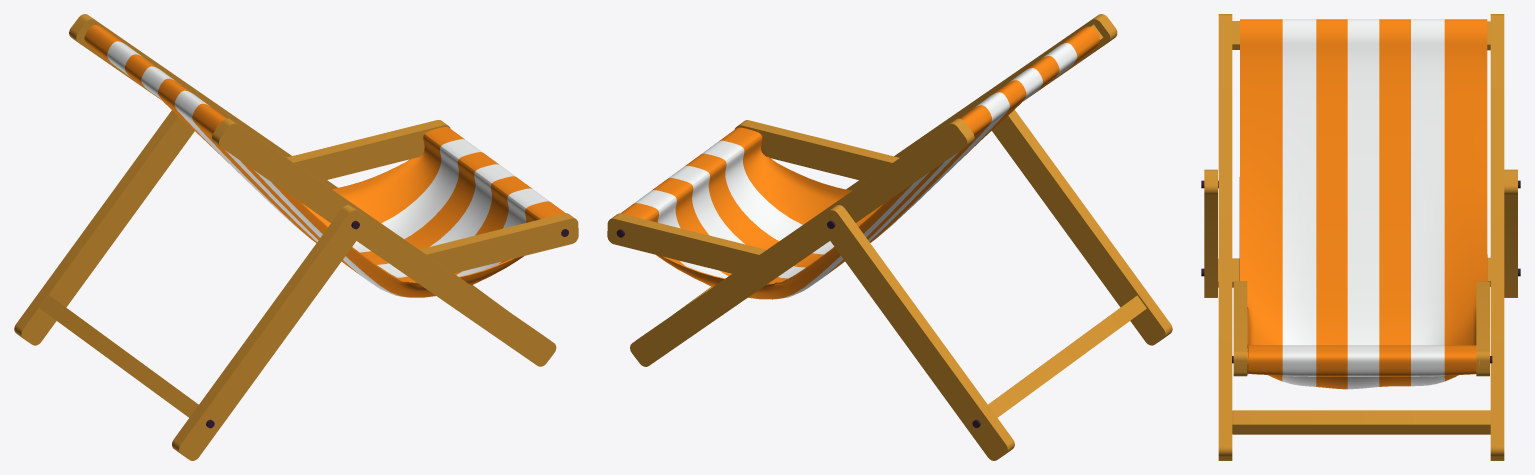
The model's file is chair.glb.
3 views of the same model, side by side, from view 1: azimuth 30°, elevation 25°; view 2: azimuth 150°, elevation 25°; view 3: azimuth 270°, elevation 25° (orthographic). The views are drawn at different scales.
Visible parts, largest first — view 1: Plane, Cube, Cube.001, Cube.005, Cube.006, Cube.007, Cube.002, Cube.004; view 2: Plane, Cube.004, Cube.005, Cube.001, Cube.007, Cube.006, Cube.002, Cube; view 3: Plane, Cube, Cube.004, Cube.003, Cube.001, Cube.005, Cube.006, Cube.007, Cube.009, Cube.002.
Boxes of the visible parts, left/top/right/bottom form: Plane: left=84, top=25, right=565, bottom=297; Cube: left=212, top=118, right=556, bottom=366; Cube.001: left=172, top=205, right=368, bottom=460; Cube.005: left=14, top=110, right=194, bottom=345; Cube.006: left=419, top=213, right=578, bottom=273; Cube.007: left=286, top=120, right=450, bottom=181; Cube.002: left=39, top=295, right=198, bottom=417; Cube.004: left=69, top=14, right=337, bottom=188; Plane: left=620, top=26, right=1099, bottom=299; Cube.004: left=630, top=118, right=974, bottom=366; Cube.005: left=818, top=205, right=1014, bottom=460; Cube.001: left=992, top=109, right=1172, bottom=345; Cube.007: left=607, top=213, right=766, bottom=273; Cube.006: left=737, top=120, right=899, bottom=181; Cube.002: left=988, top=295, right=1146, bottom=417; Cube: left=846, top=14, right=1117, bottom=190; Plane: left=1239, top=19, right=1487, bottom=389; Cube: left=1218, top=14, right=1232, bottom=460; Cube.004: left=1490, top=14, right=1504, bottom=460; Cube.003: left=1232, top=410, right=1490, bottom=434; Cube.001: left=1204, top=169, right=1217, bottom=297; Cube.005: left=1504, top=169, right=1517, bottom=297; Cube.006: left=1233, top=281, right=1247, bottom=376; Cube.007: left=1476, top=281, right=1489, bottom=376; Cube.009: left=1232, top=21, right=1490, bottom=50; Cube.002: left=1218, top=257, right=1490, bottom=287.
Size of the model in its own units: 33.96 by 24.99 by 23.74.
